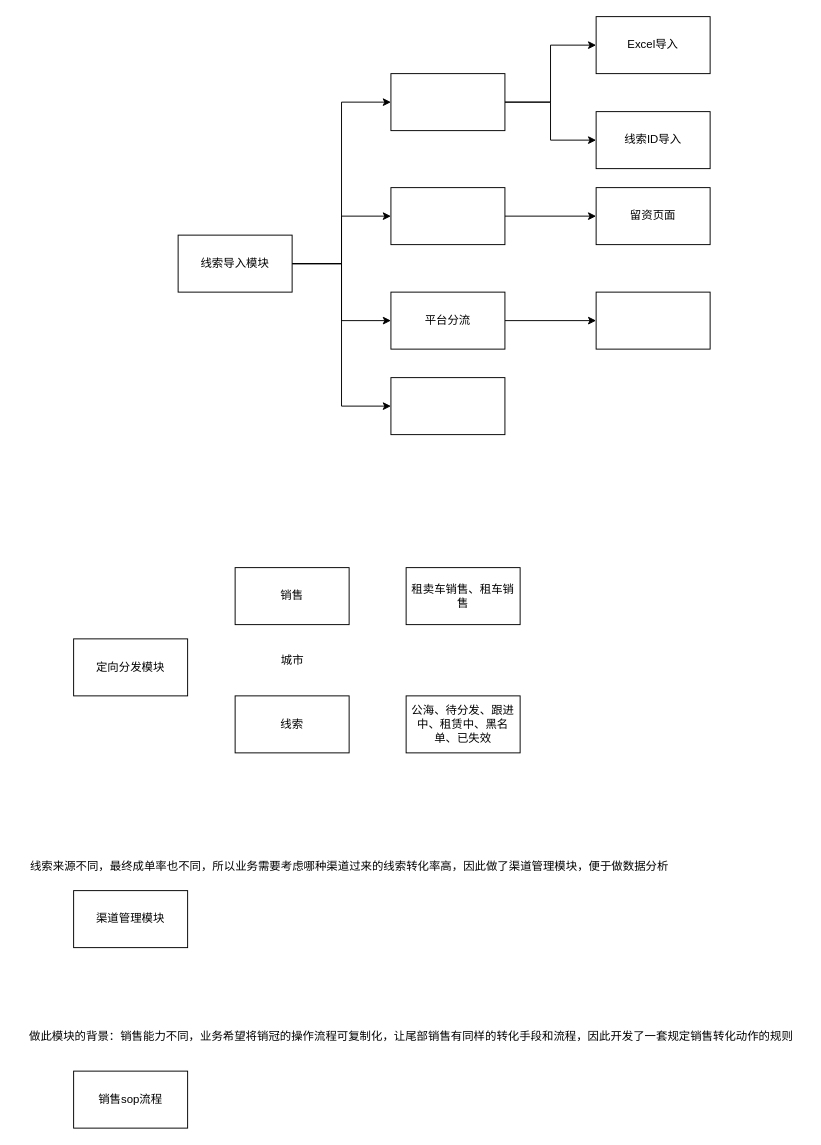
The diagram is 821 pixels wide and 1145 high, and some of its shapes have lost their labels. The centre of each missing label's shape, as x and y in pixels:
公司内部系统间通过mq通知: (652,320)
广告投放: (447,216)
运营导入: (447,102)
销售自拓: (447,406)
